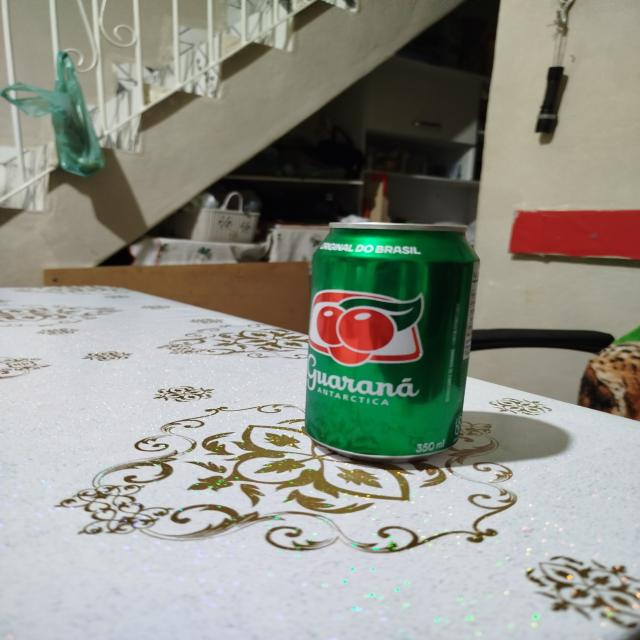Guarana: (302, 220, 482, 463)
